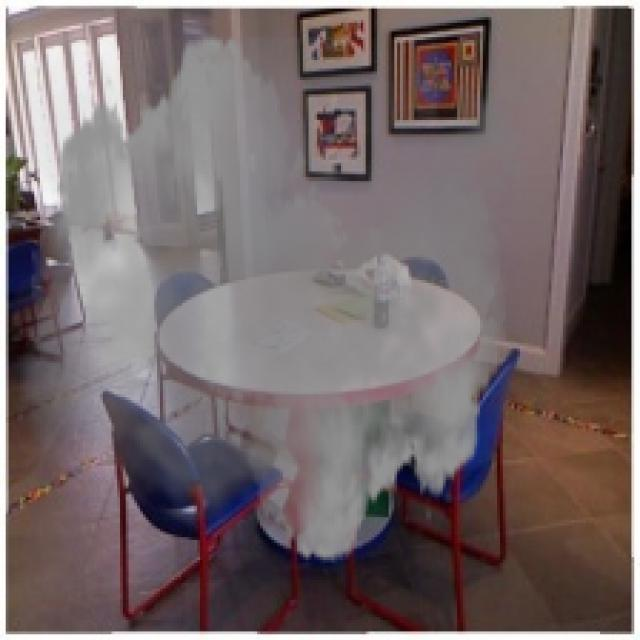Smoke: (8, 17, 543, 580)
